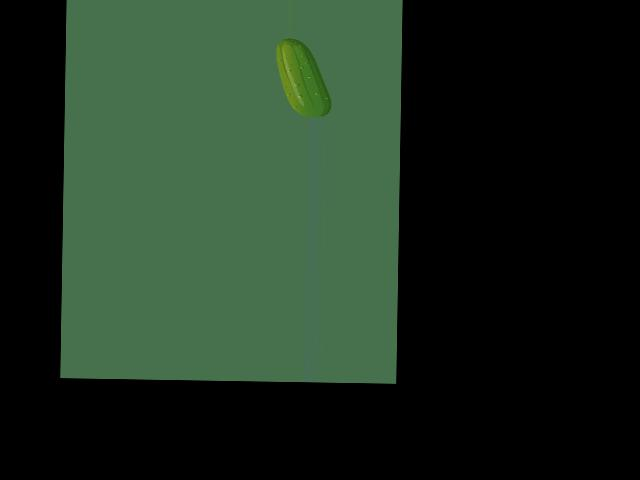cucumber: (275, 38, 332, 117)
